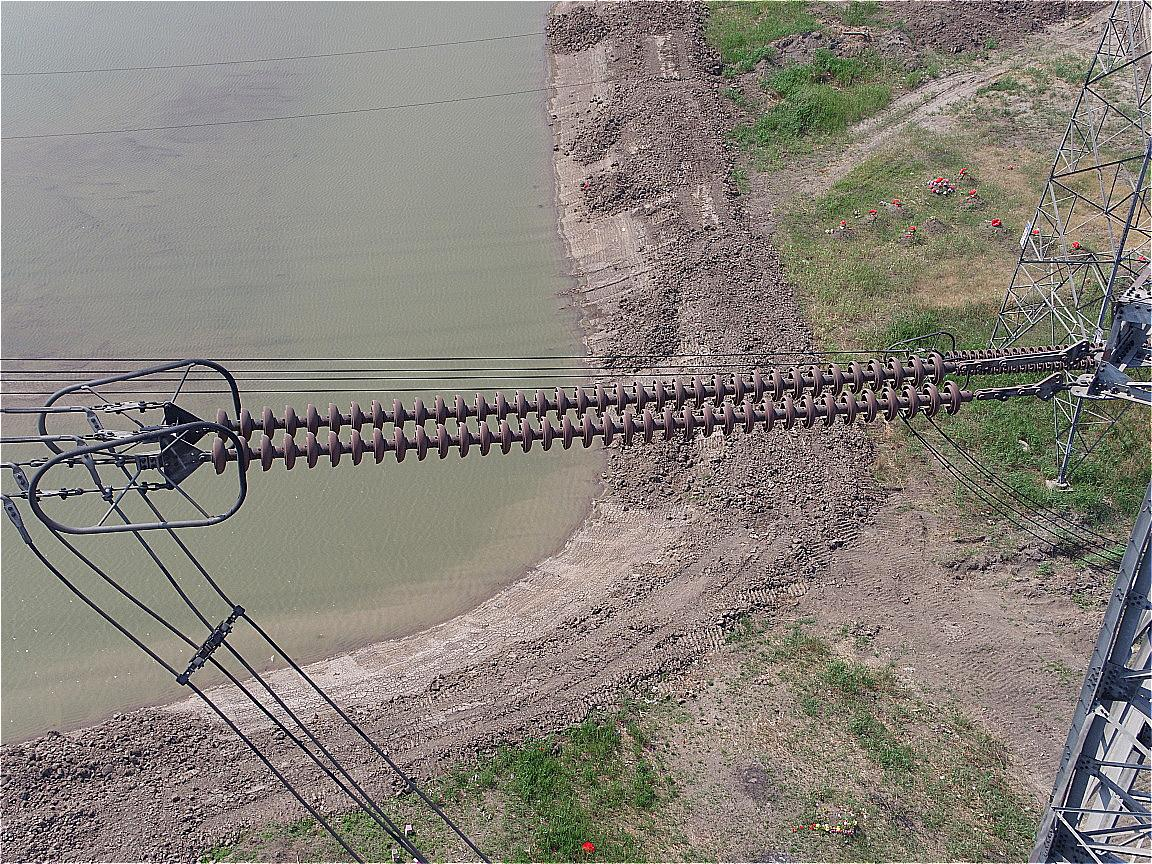insultor1: (197, 350, 977, 479)
